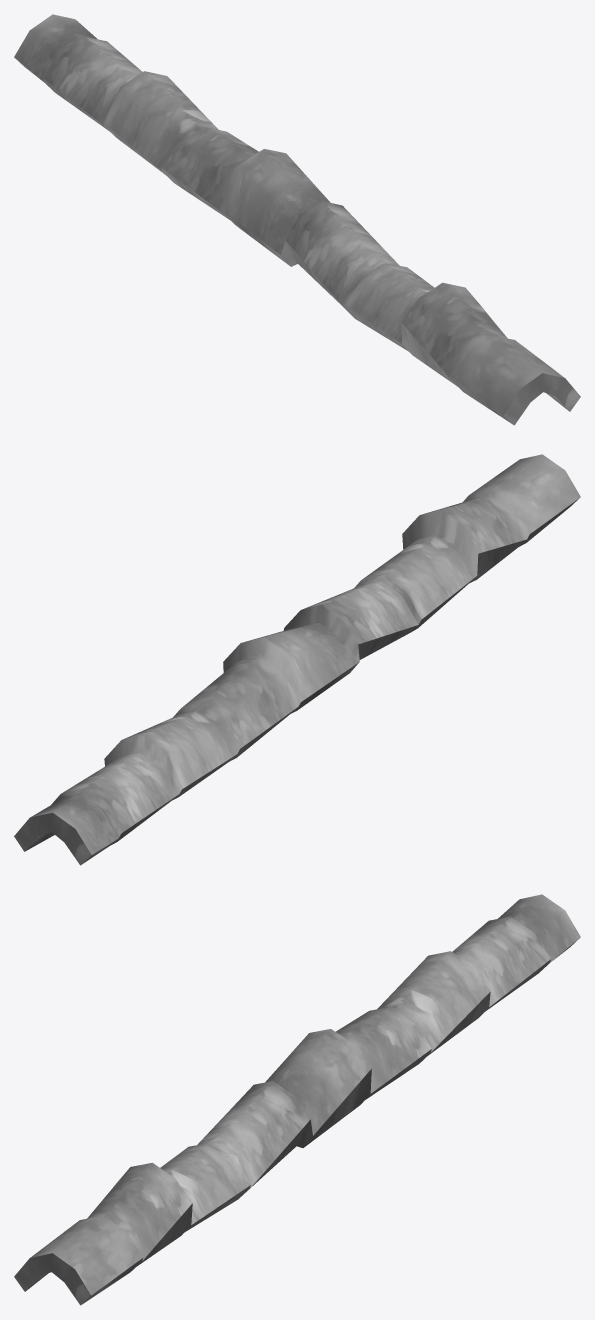
Rendered from SM_Rooftiles_01h.fbx.
3 views of the same model, one above another, from view 1: azimuth 30°, elevation 25°; view 2: azimuth 150°, elevation 25°; view 3: azimuth 330°, elevation 25° (orthographic).
Visible parts, largest first — view 1: SM_Rooftiles_01h_LOD0; view 2: SM_Rooftiles_01h_LOD0; view 3: SM_Rooftiles_01h_LOD0.
Part boxes in pixels (x1,y1,x2,y2): SM_Rooftiles_01h_LOD0: [14, 14, 580, 425]; SM_Rooftiles_01h_LOD0: [14, 454, 580, 865]; SM_Rooftiles_01h_LOD0: [14, 894, 580, 1305].
Size of the model in its own units: 31.18 by 335 by 28.8.
